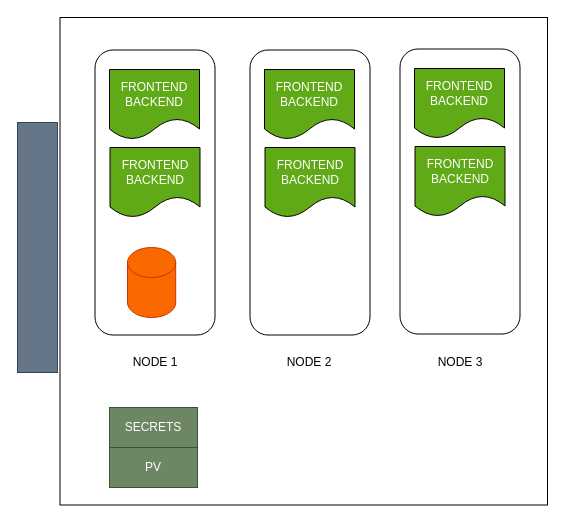
Some shapes in this 565 by 523 pixel diagram are drawn without their labels. The shapes that lost their labels are listed below. From the top down, each one's box as (x1, y1, x2, y2) in pixels, then its label:
(16, 122, 58, 372): LOAD BALANCER
(126, 246, 176, 318): BD
